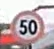limite 50: (10, 10, 43, 42)
